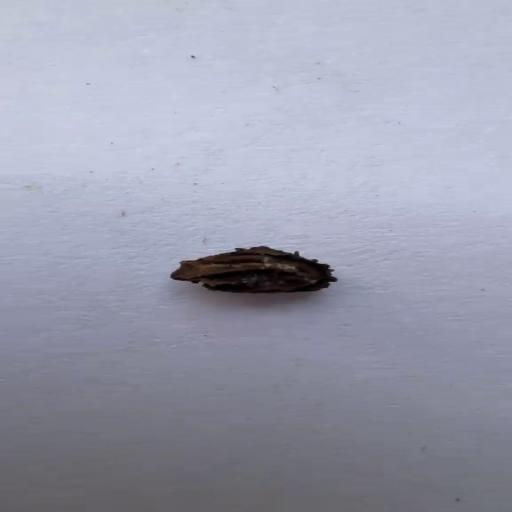papaya_seed: (33, 218, 495, 357)
